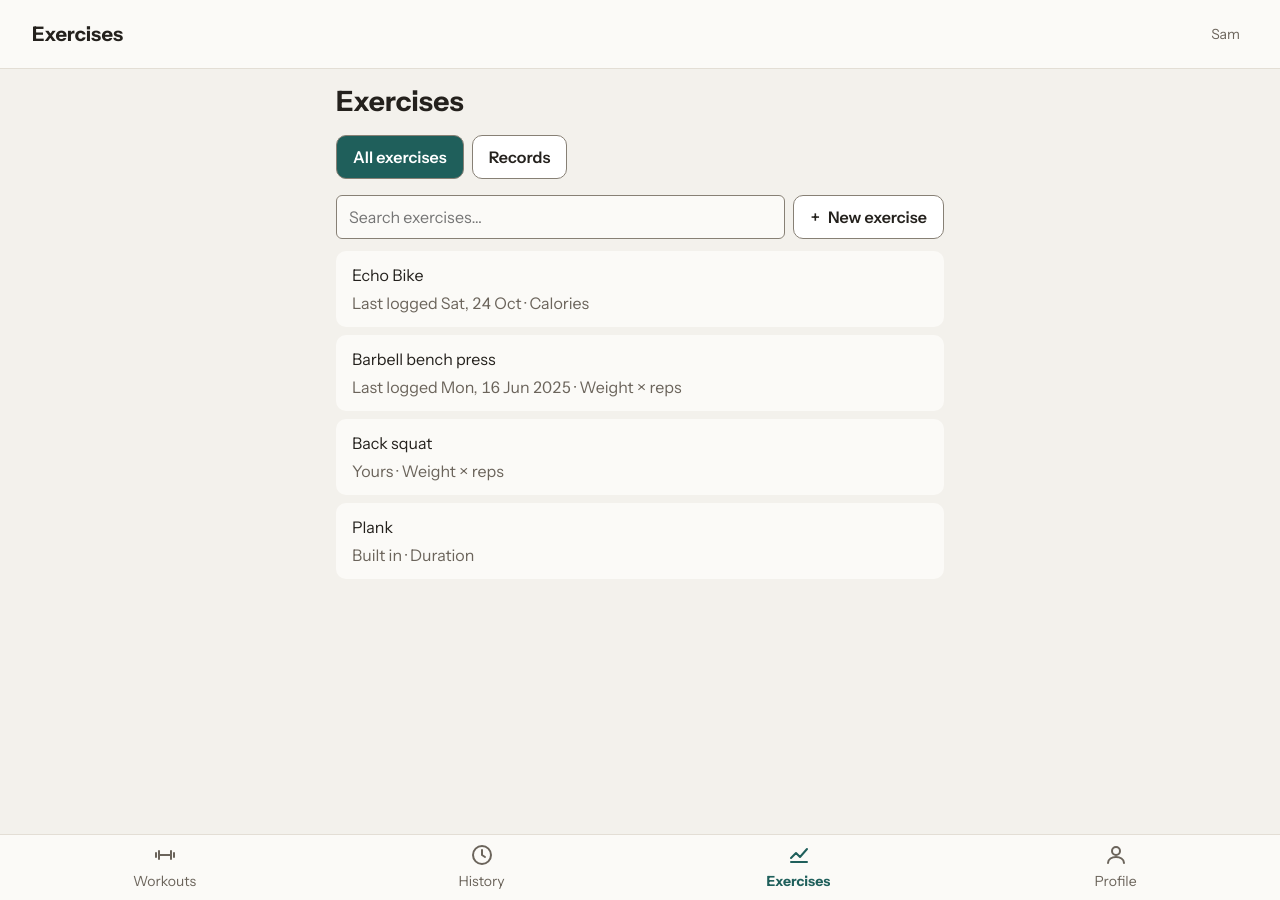
Test: 18.2 AC12 — search › BENCH matches, the status counts, and clearing removes it
This screenshot has width=1280, height=900.
Type "BENCH" into the search field labelled "Search exercises".
click(561, 217); type("BENCH")  # box [336,195,785,239]
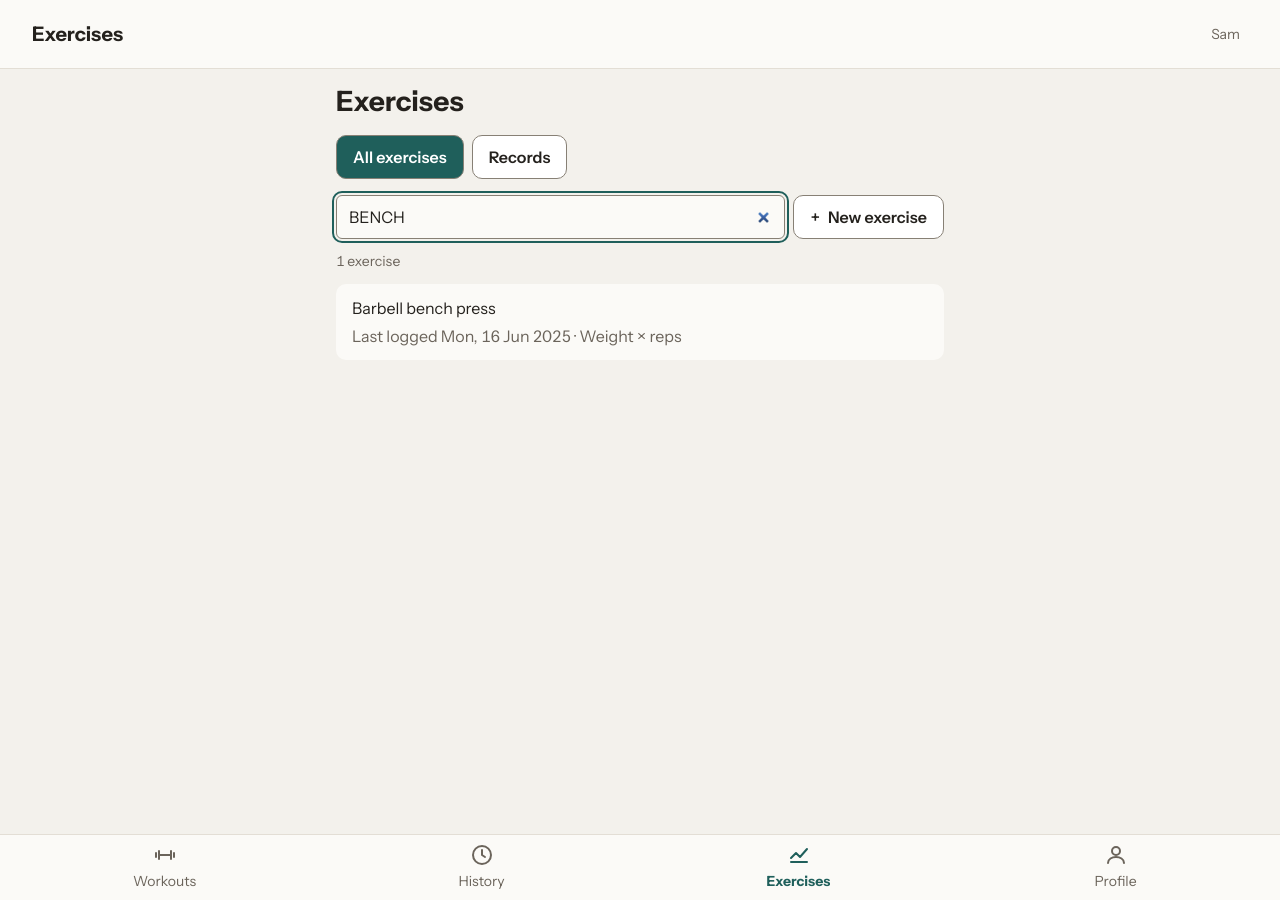
Clear the search field named "Search exercises" at [561, 217], box [336,195,785,239]
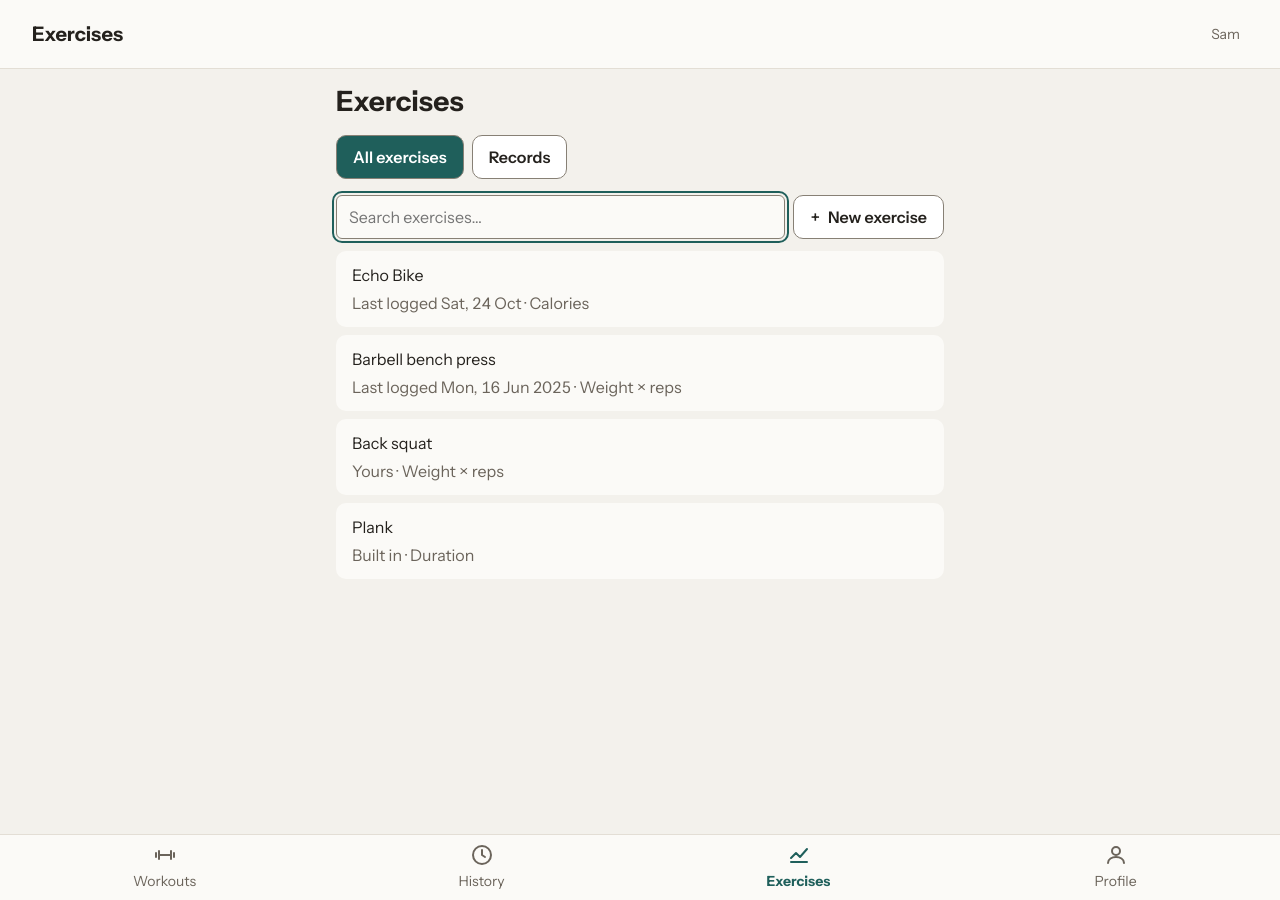
Result: the text "1 exercise" is gone
